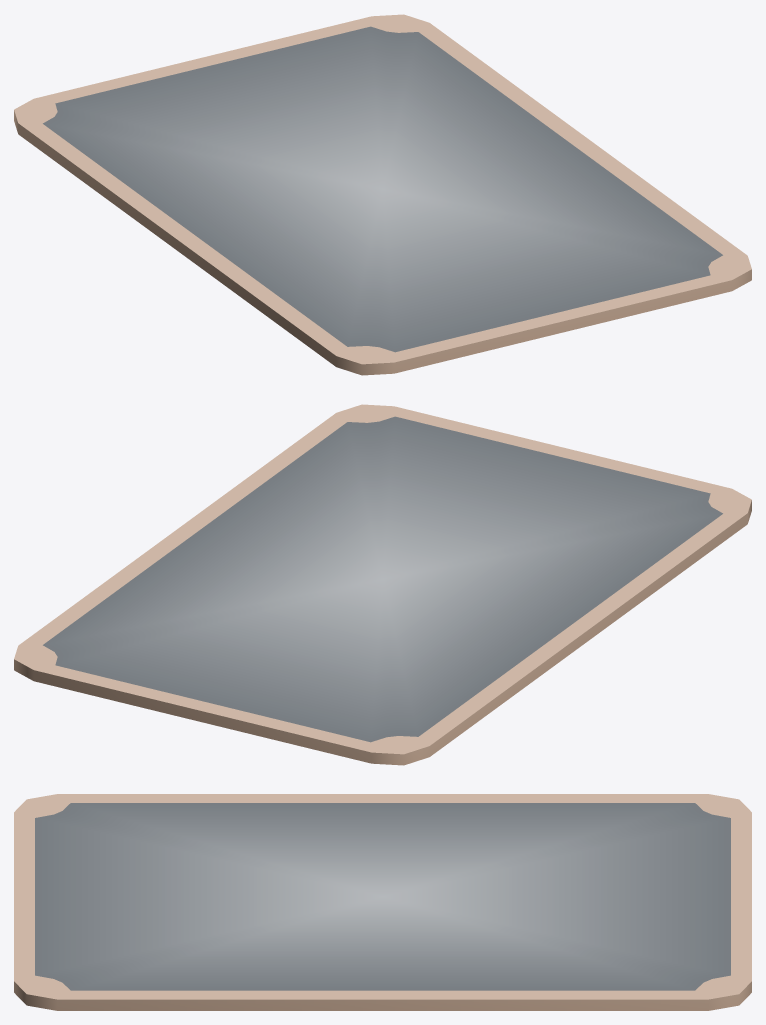
File: TarotCard1.fbx
3 views of the same model, one above another, from view 1: azimuth 30°, elevation 25°; view 2: azimuth 150°, elevation 25°; view 3: azimuth 270°, elevation 25° (orthographic). The views are drawn at different scales.
Parts seen in each view (by area): view 1: TarotCard1; view 2: TarotCard1; view 3: TarotCard1.
Boxes of the visible parts, box(x1,y1,x2,y2) form: TarotCard1: box(14, 14, 751, 375); TarotCard1: box(14, 404, 751, 765); TarotCard1: box(14, 794, 751, 1010).
Size of the model in its own units: 5.8 by 0.15 by 8.8.
